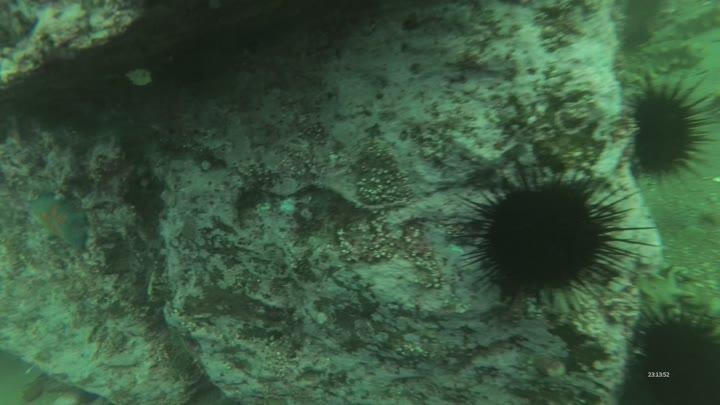urchin: (454, 166, 619, 309), (623, 79, 714, 187), (628, 313, 720, 400)
